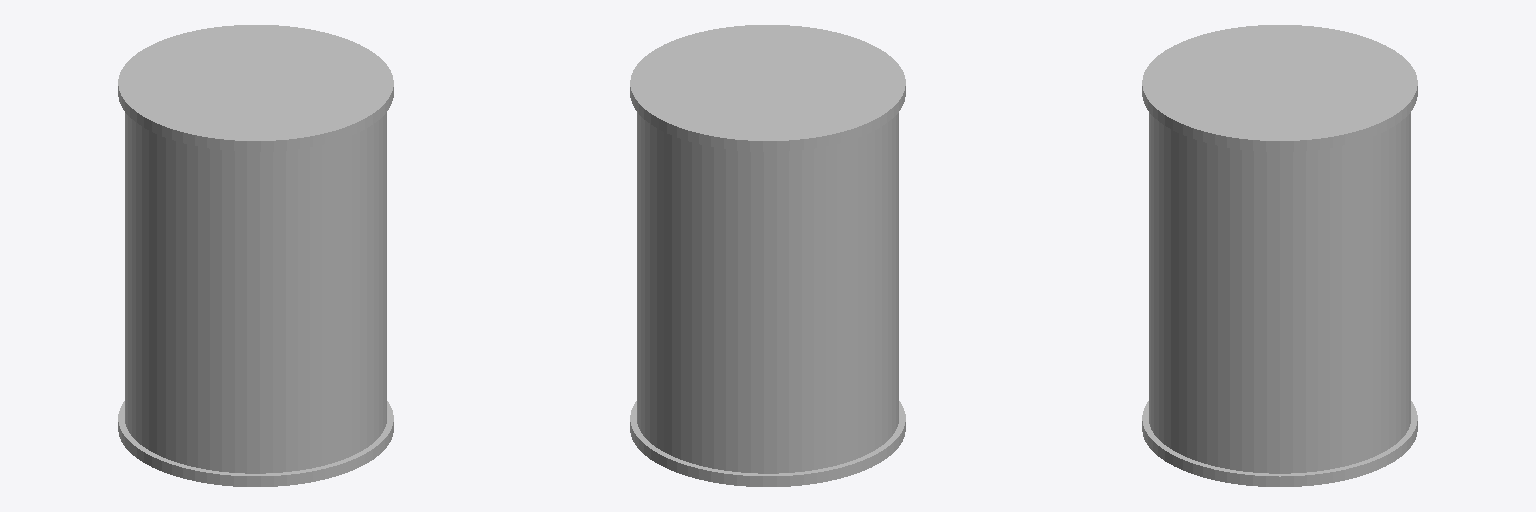
The model's file is CanB.obj.
The picture shows the model from 3 angles: view 1: azimuth 30°, elevation 25°; view 2: azimuth 150°, elevation 25°; view 3: azimuth 270°, elevation 25°; orthographic projection.
Visible parts, largest first — view 1: Cylinder; view 2: Cylinder; view 3: Cylinder.
Part boxes in pixels (left/top/right/bottom): Cylinder: left=118, top=25, right=393, bottom=486; Cylinder: left=630, top=25, right=905, bottom=486; Cylinder: left=1142, top=25, right=1417, bottom=486.
Bounding box in the file's own units: 2.31 × 3.2 × 2.31.